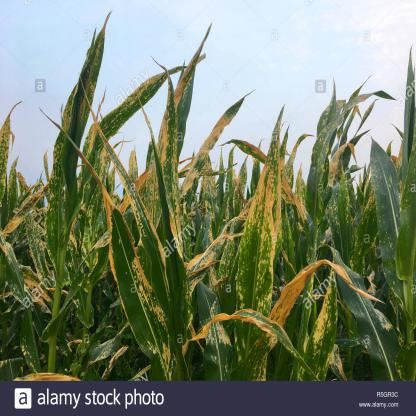corn leaf blight: (68, 133, 174, 383), (41, 12, 116, 284), (225, 105, 294, 371), (304, 85, 401, 222), (154, 47, 187, 263), (370, 132, 404, 314), (2, 234, 45, 376), (296, 269, 341, 380)
